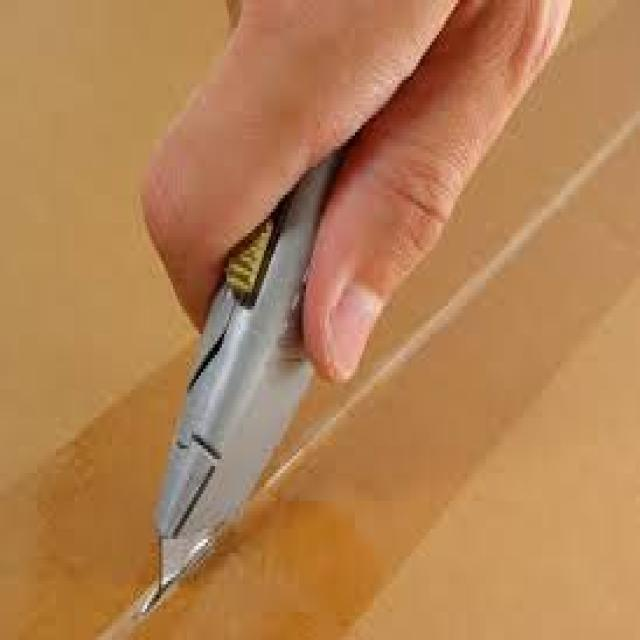cutter: (145, 84, 358, 602)
